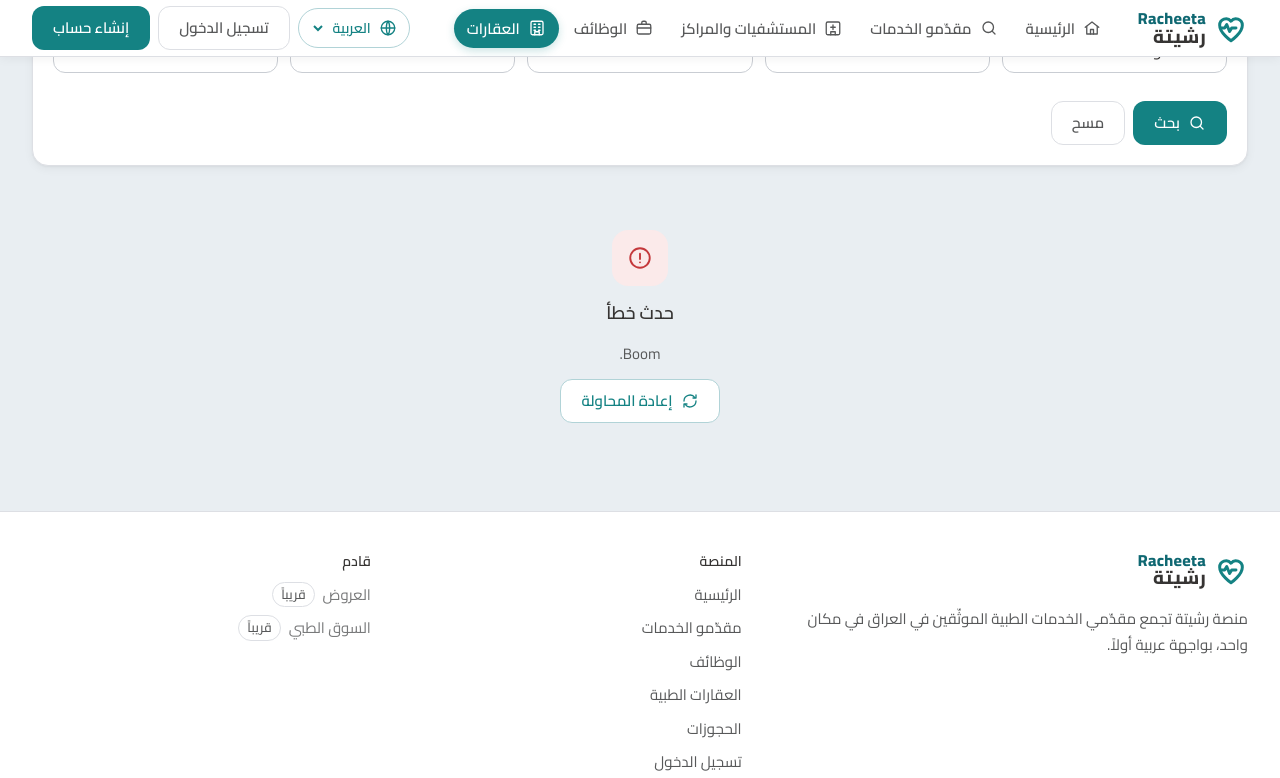
Test: Public real-estate catalogue › shows the empty state and an error with retry
(page scrolled)
Click the button "إعادة المحاولة": (640, 400) [560,378,720,422]
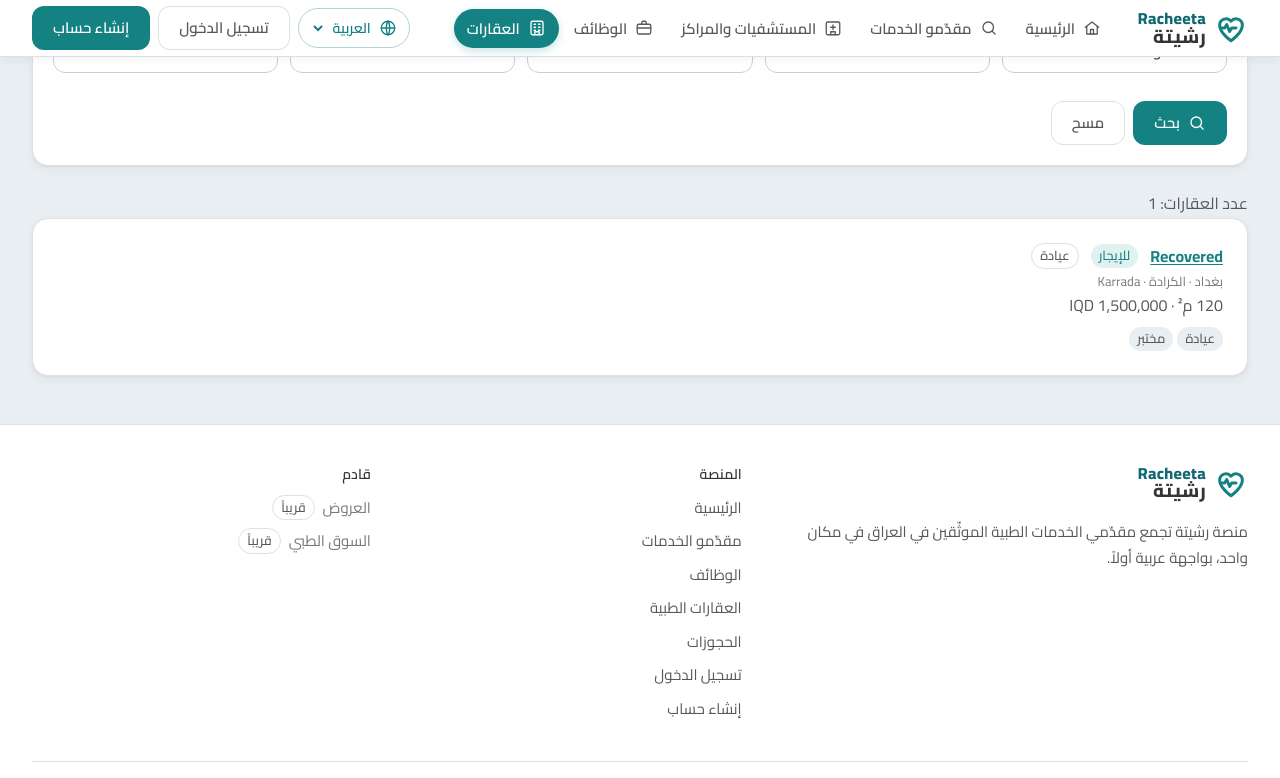
Expected: the text "Recovered" is shown, [1150,241,1223,271]
